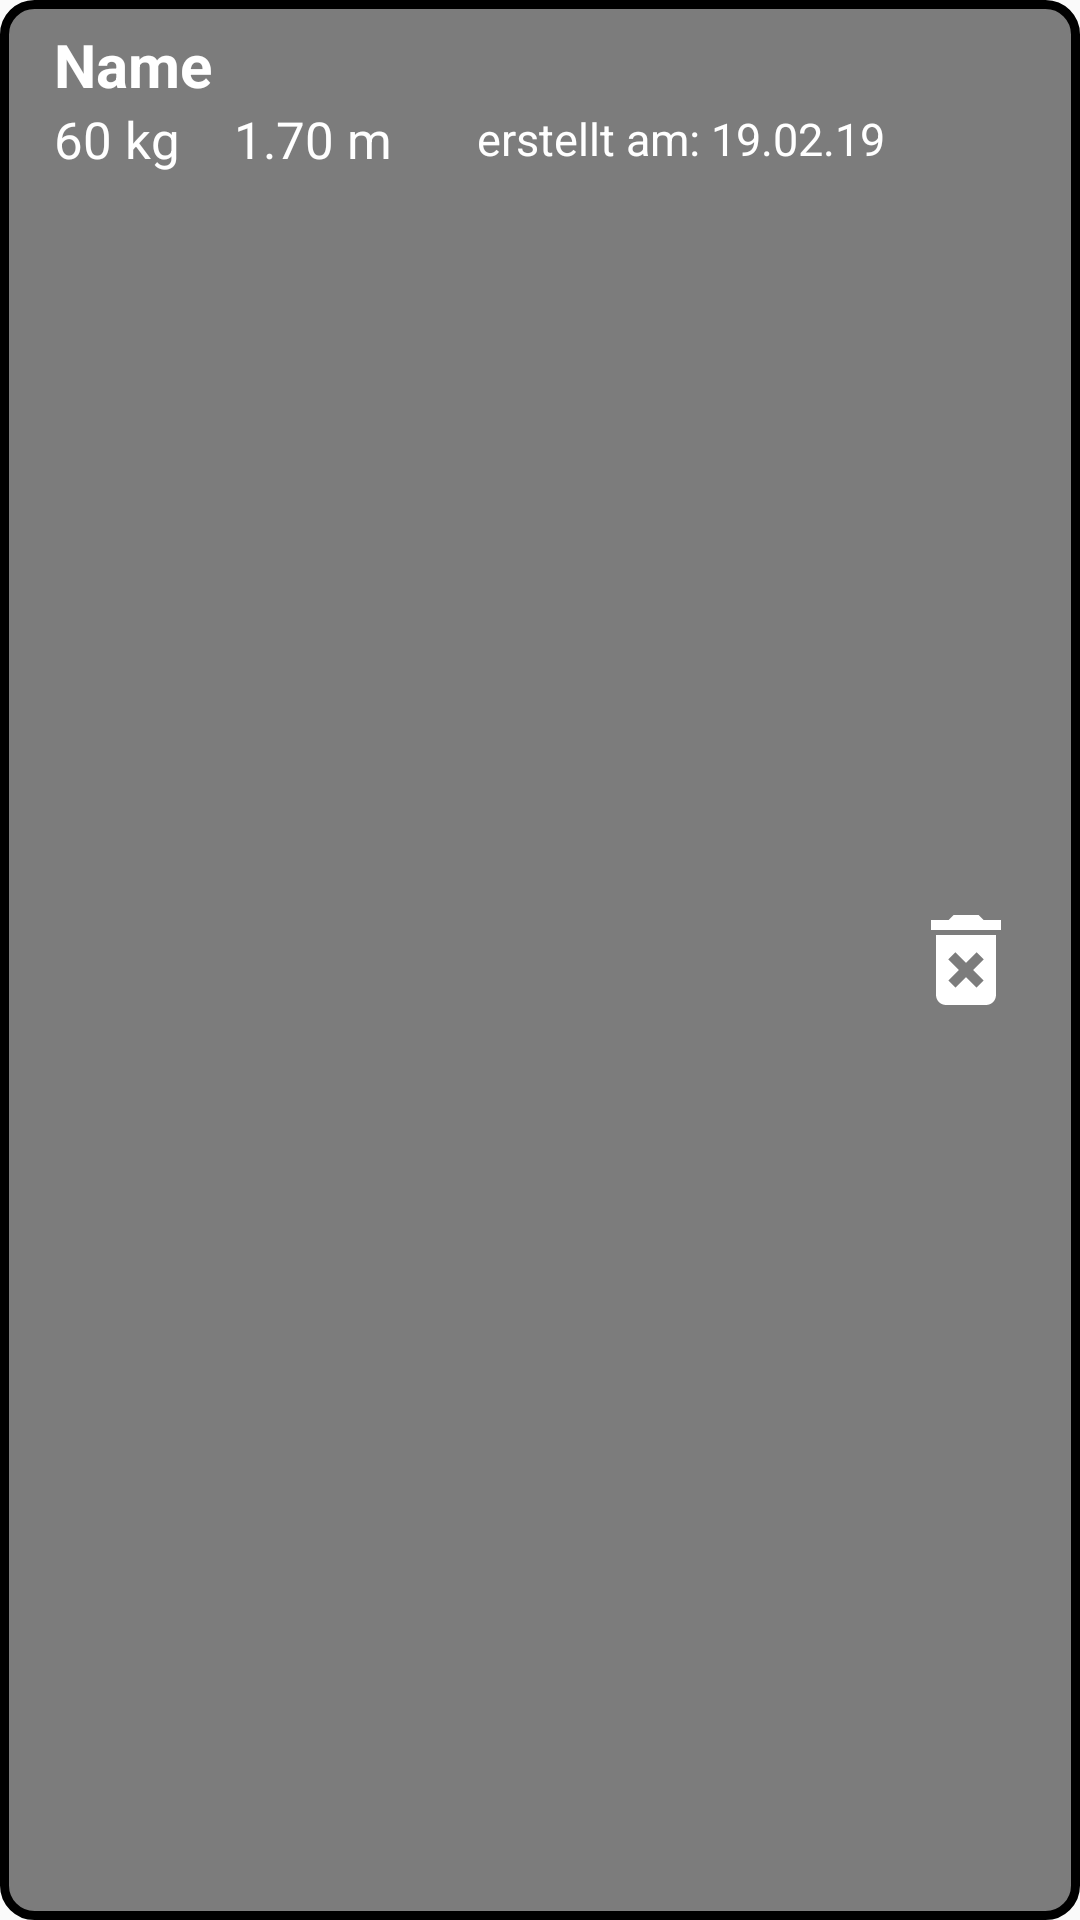

Named icons in this screenshot (1080*1920) and their centers, (x,y):
bin: (966,960)
